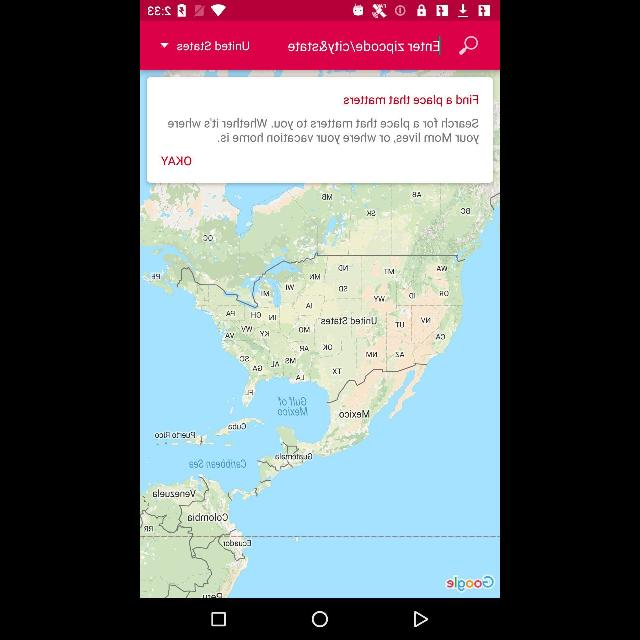icon: (457, 37, 479, 57), (311, 610, 329, 628), (413, 610, 429, 628), (211, 611, 227, 627)
input: (270, 37, 442, 57)
map: (142, 70, 498, 598)
panel: (140, 597, 498, 639)
spinner: (161, 40, 251, 54)
text: (166, 94, 480, 146)
textbutton: (160, 155, 193, 169)
toolbar: (140, 21, 500, 67)
uppertaskbar: (142, 2, 500, 20)
